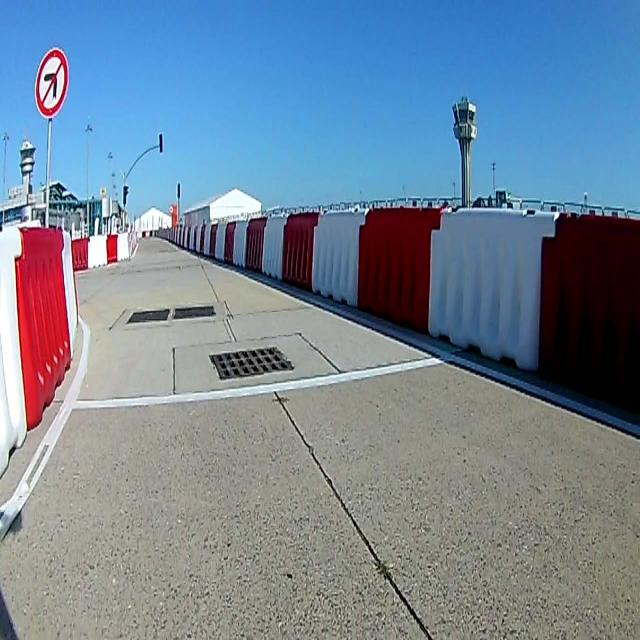soladonulmez: (34, 49, 68, 115)
